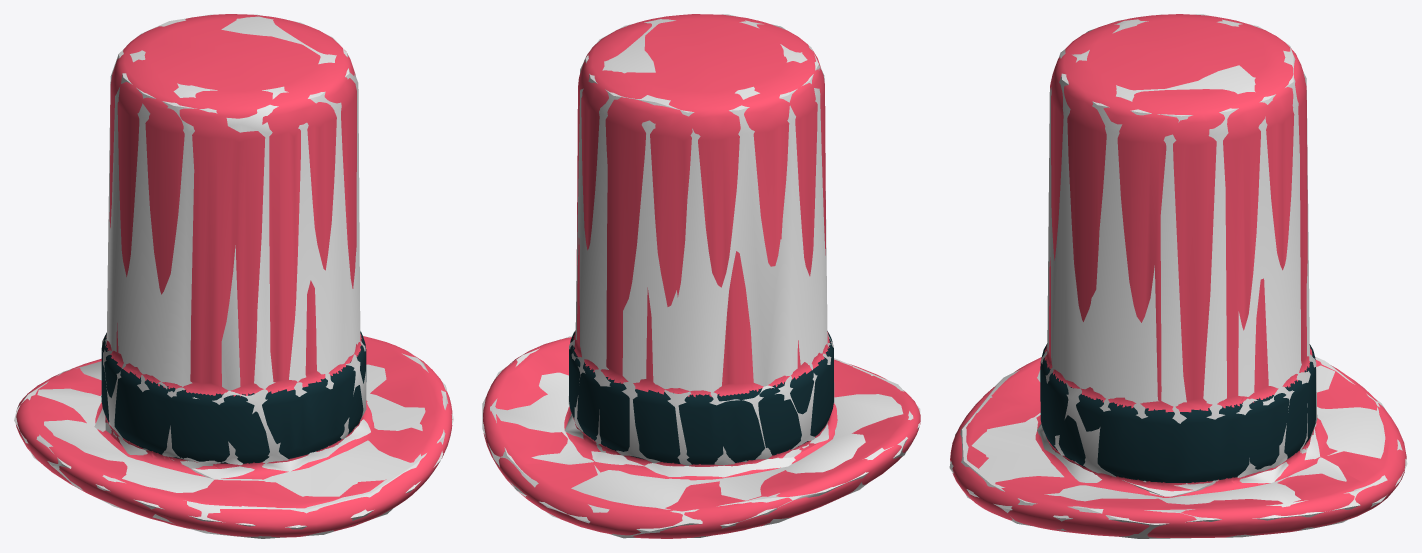
The model's file is hat.glb.
3 views of the same model, side by side, from view 1: azimuth 30°, elevation 25°; view 2: azimuth 150°, elevation 25°; view 3: azimuth 270°, elevation 25° (orthographic). The views are drawn at different scales.
Parts seen in each view (by area): view 1: hat, shadow; view 2: hat, shadow; view 3: hat, shadow.
Boxes of the visible parts, x1,y1,x2,y2 form: hat: (16, 14, 452, 537); shadow: (14, 14, 453, 538); hat: (483, 14, 920, 538); shadow: (482, 14, 920, 538); hat: (950, 14, 1406, 537); shadow: (949, 14, 1407, 538).
Size of the model in its own units: 0.9575 by 0.9699 by 0.9621.
